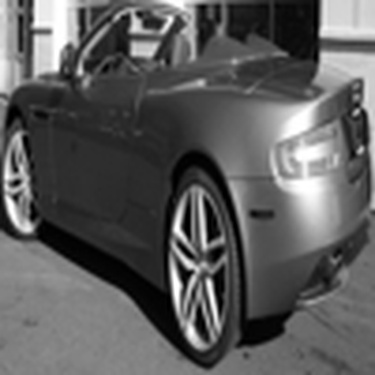car: (4, 3, 372, 372)
